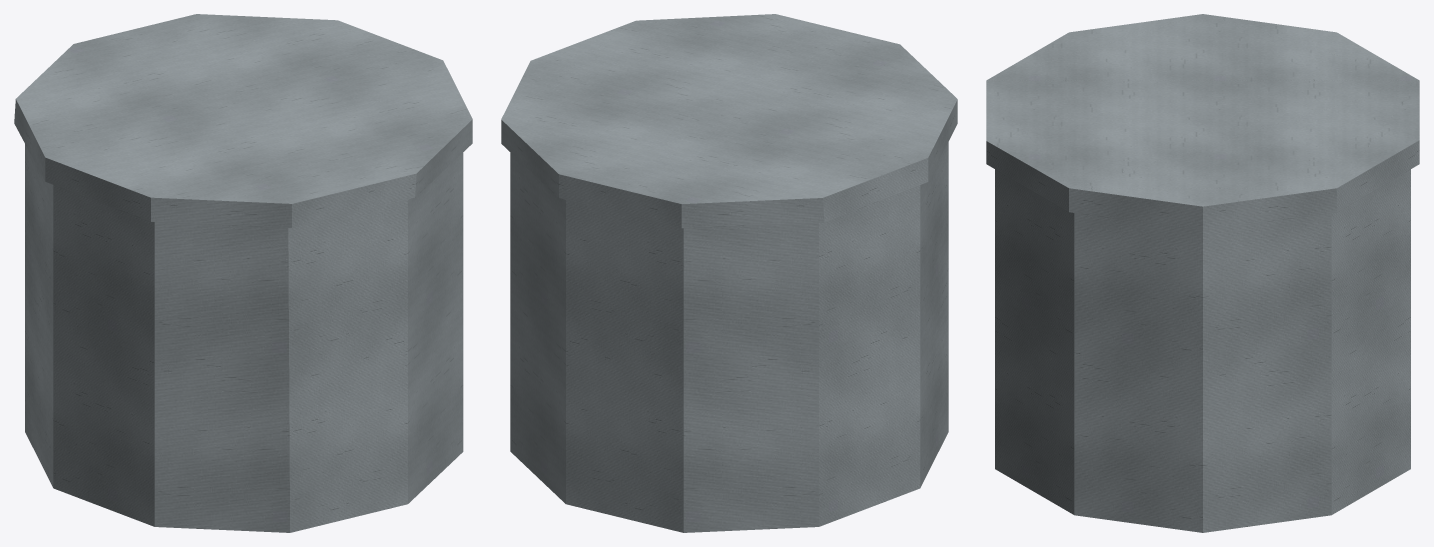
The model's file is bucket_v4.glb.
The picture shows the model from 3 angles, left to right: view 1: azimuth 30°, elevation 25°; view 2: azimuth 150°, elevation 25°; view 3: azimuth 270°, elevation 25°; orthographic projection.
Visible parts, largest first — view 1: Variant_bucket_4; view 2: Variant_bucket_4; view 3: Variant_bucket_4.
Part boxes in pixels (x1=…): Variant_bucket_4: x1=14, y1=14, x2=472, y2=532; Variant_bucket_4: x1=501, y1=14, x2=957, y2=532; Variant_bucket_4: x1=986, y1=14, x2=1419, y2=532.
Bounding box in the file's own units: 0.344 × 0.275 × 0.3272.
Materials: 1 (1 with a texture image).
